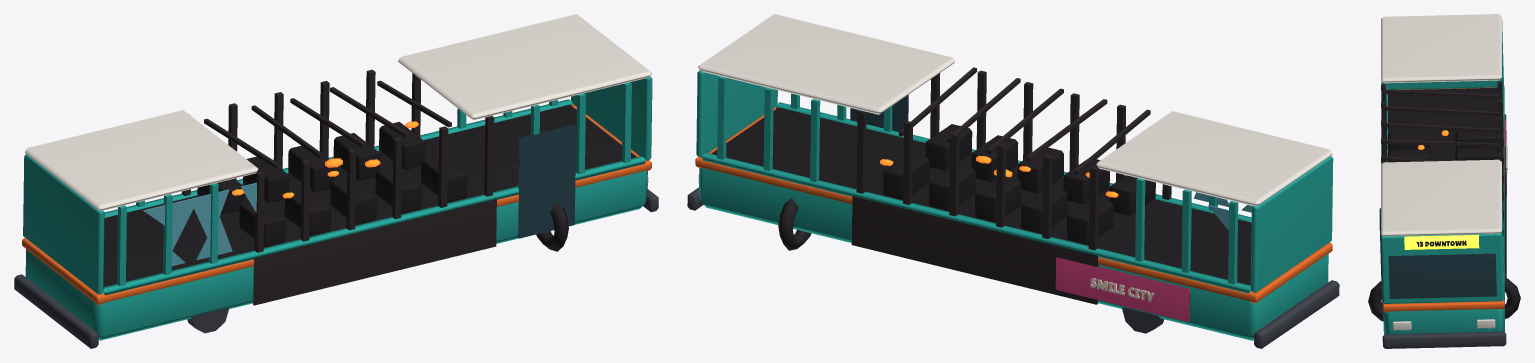
File: city_bus_wreck.glb
3 views of the same model, side by side, from view 1: azimuth 30°, elevation 25°; view 2: azimuth 150°, elevation 25°; view 3: azimuth 270°, elevation 25° (orthographic). The views are drawn at different scales.
Visible parts, largest first — view 1: BusWreck; view 2: BusWreck; view 3: BusWreck.
Part boxes in pixels (x1=…): BusWreck: x1=14, y1=14, x2=658, y2=348; BusWreck: x1=687, y1=14, x2=1339, y2=348; BusWreck: x1=1368, y1=14, x2=1520, y2=348.
Size of the model in its own units: 11.3 by 3.12 by 3.28.
